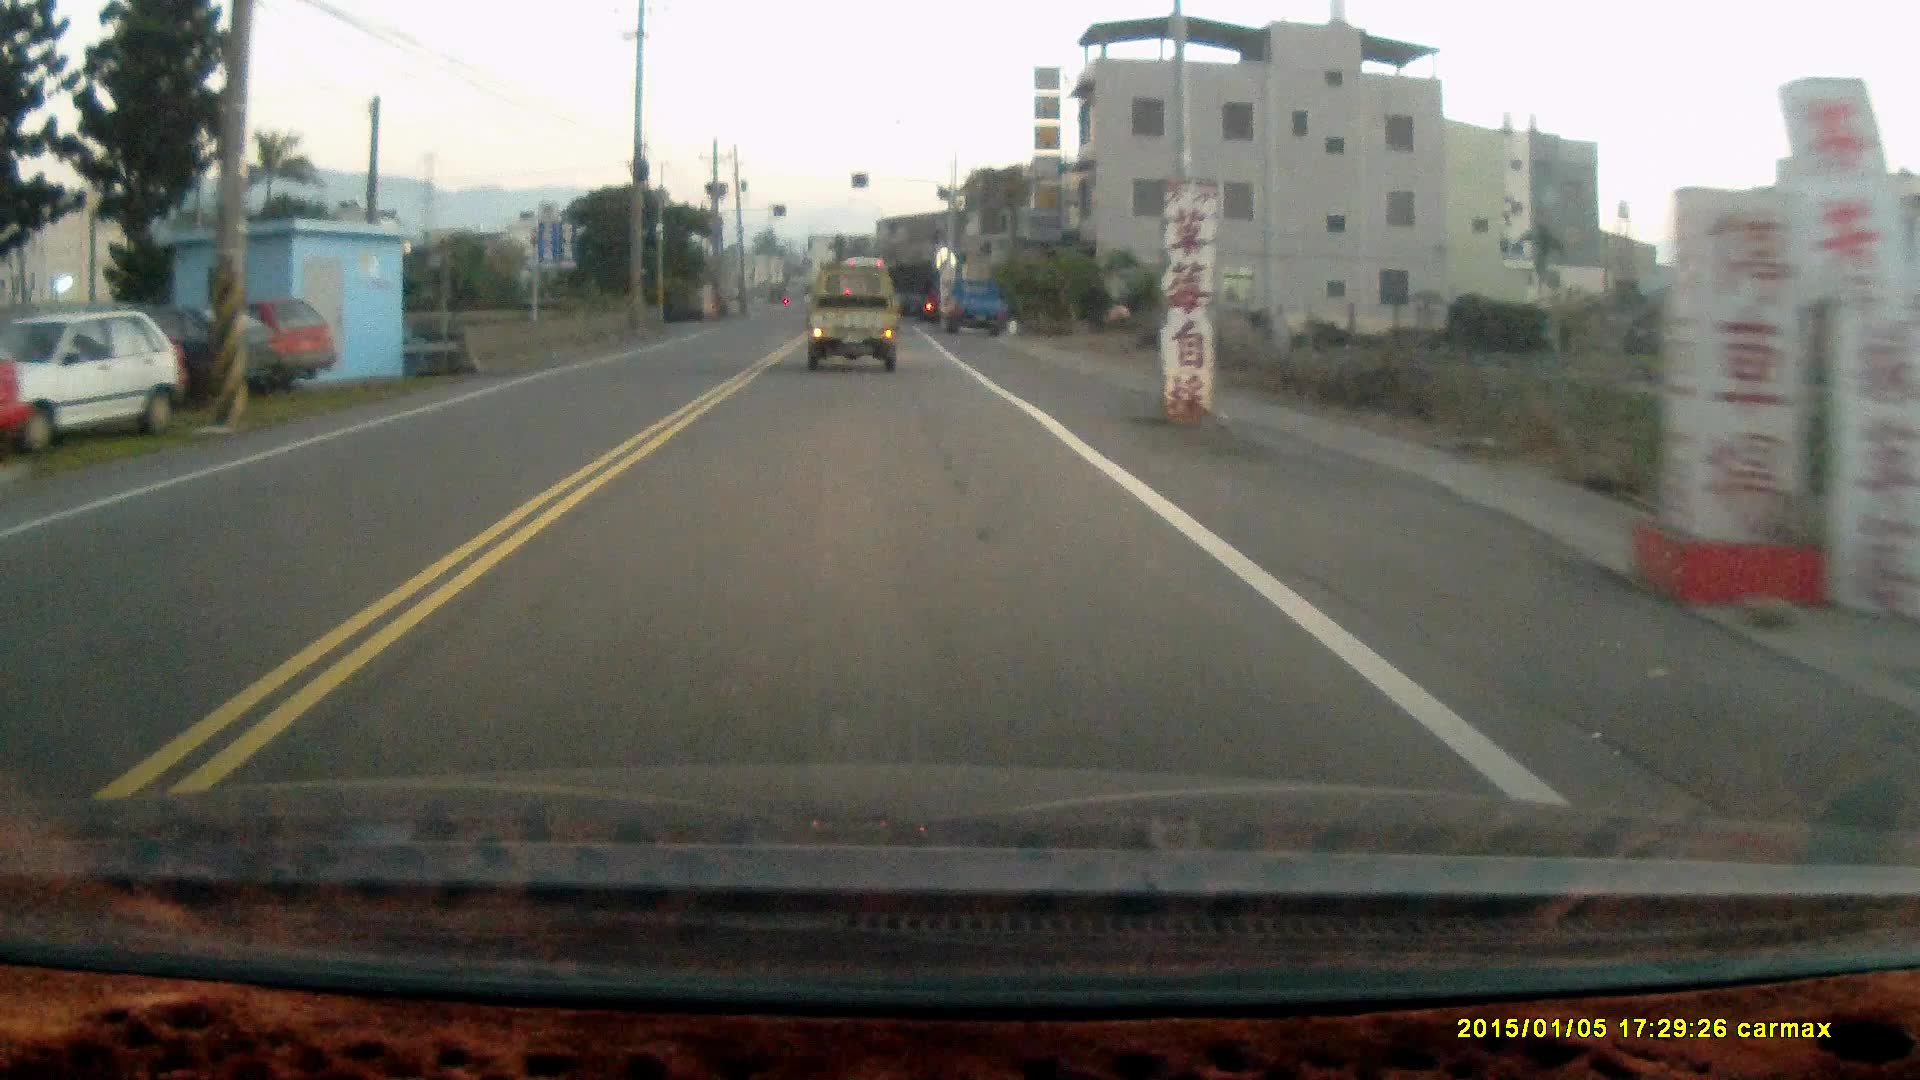vehicle: (1, 318, 191, 451), (131, 295, 344, 393), (808, 276, 902, 378), (942, 274, 1011, 336), (887, 262, 943, 326)
